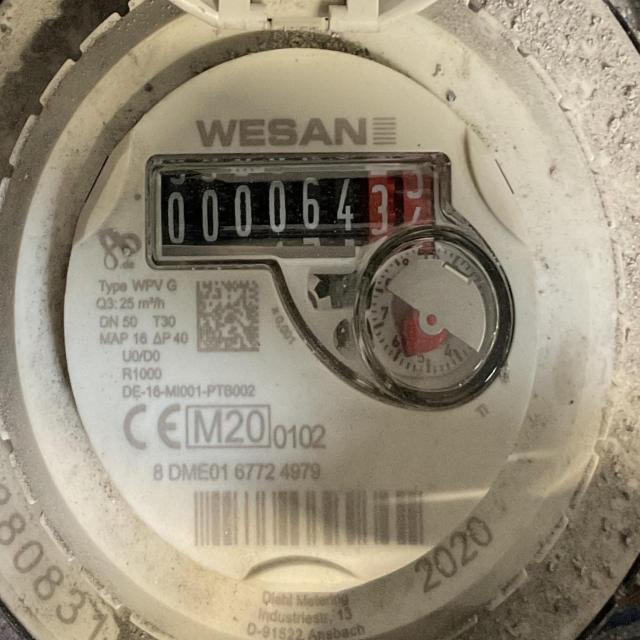gaz_meter: (59, 39, 546, 602)
indication: (153, 156, 438, 260)
